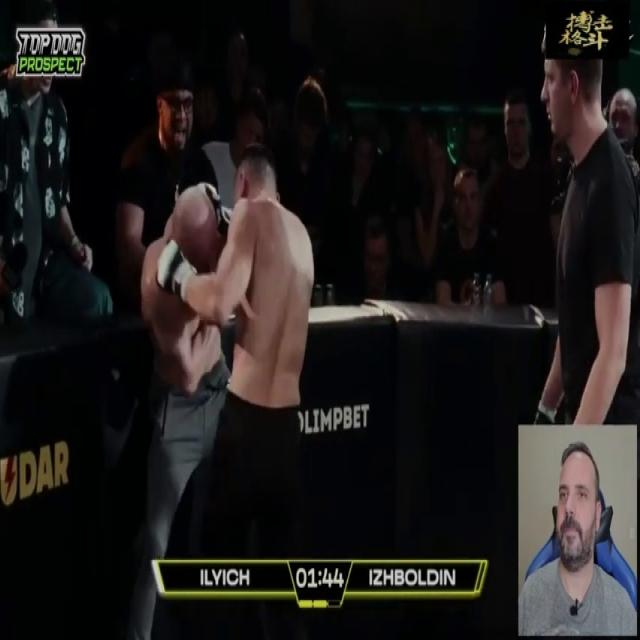fight: (125, 133, 336, 639)
non-fight: (534, 26, 639, 426)
